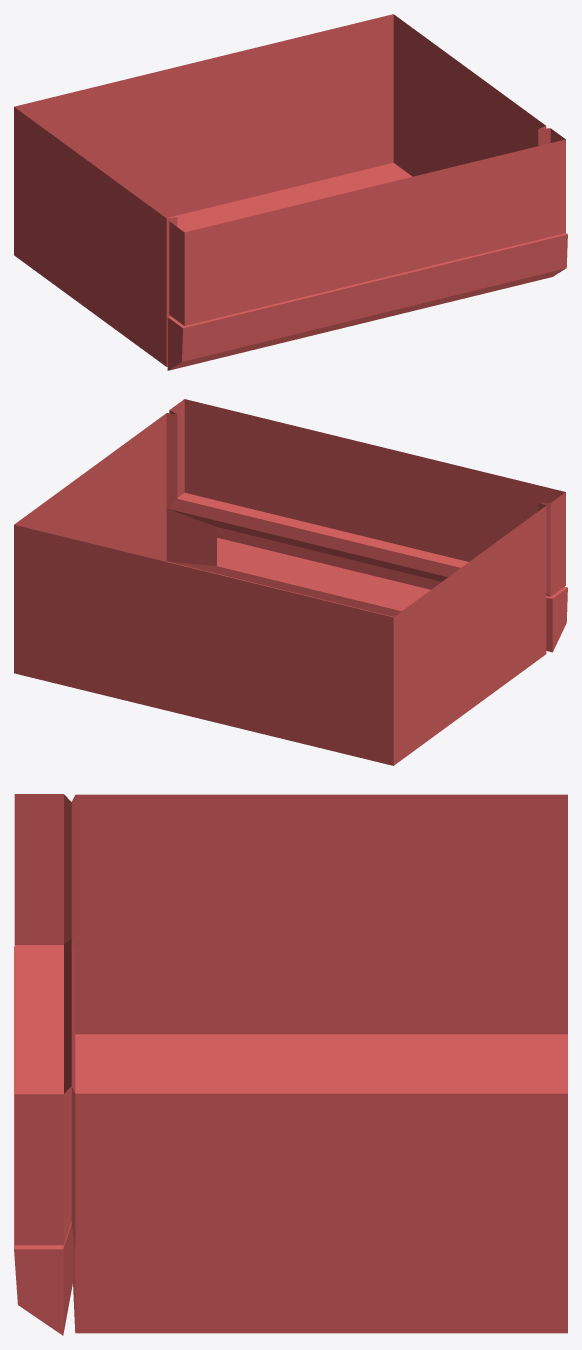
The picture shows the model from 3 angles, top to bottom: view 1: azimuth 30°, elevation 25°; view 2: azimuth 150°, elevation 25°; view 3: azimuth 270°, elevation 25°; orthographic projection. The views are drawn at different scales.
Parts seen in each view (by area): view 1: polySurface3; view 2: polySurface3; view 3: polySurface3.
Part boxes in pixels (x1,y1,x2,y2): polySurface3: [14, 14, 567, 370]; polySurface3: [14, 399, 567, 765]; polySurface3: [14, 794, 567, 1335].
Bounding box in the file's own units: 5.11 × 1.89 × 3.95.
